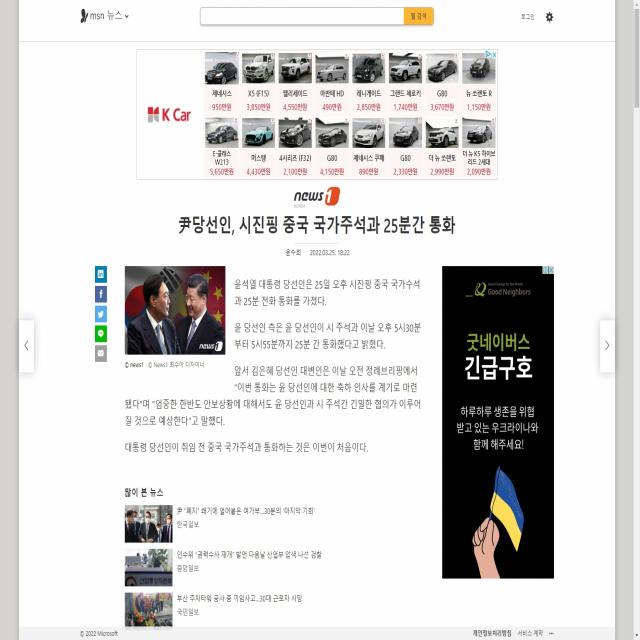menu-bar: (514, 4, 559, 32)
search: (198, 2, 435, 28)
side-panel: (16, 317, 37, 377), (597, 317, 616, 375)
